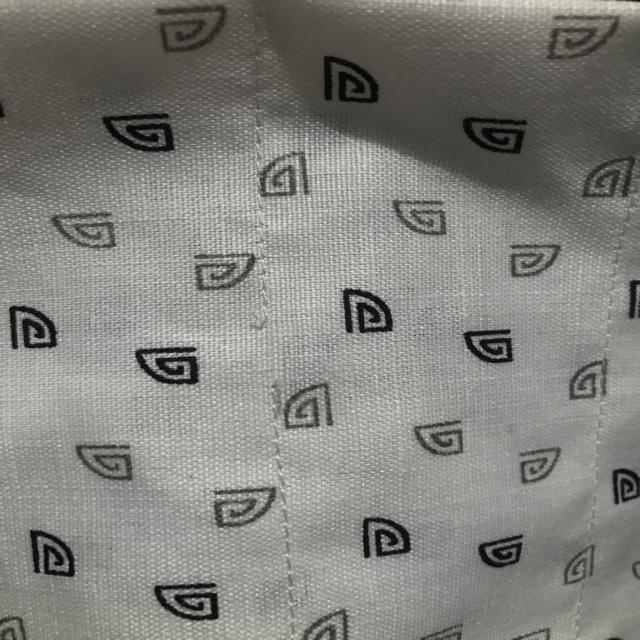broken: (240, 300, 300, 399)
good: (252, 429, 297, 475)
